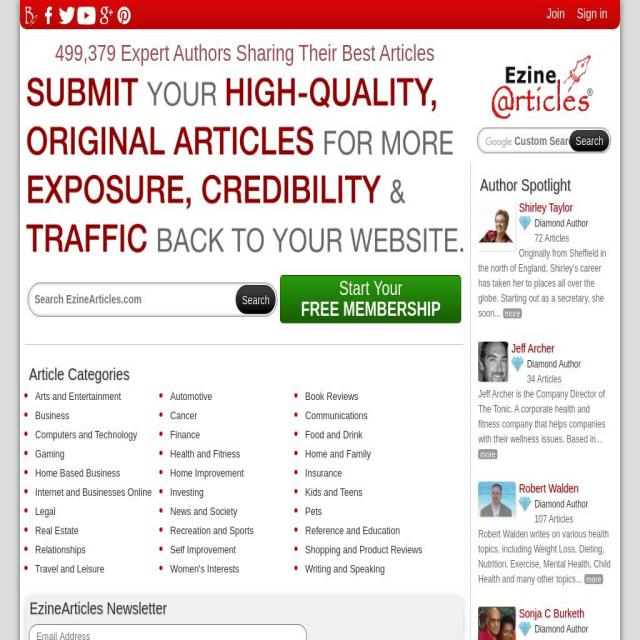follow-options: (20, 4, 144, 29)
list: (25, 382, 427, 601)
login-option: (576, 3, 615, 26)
search: (28, 268, 280, 333), (478, 120, 606, 156)
sign-up-option: (543, 1, 567, 26)
